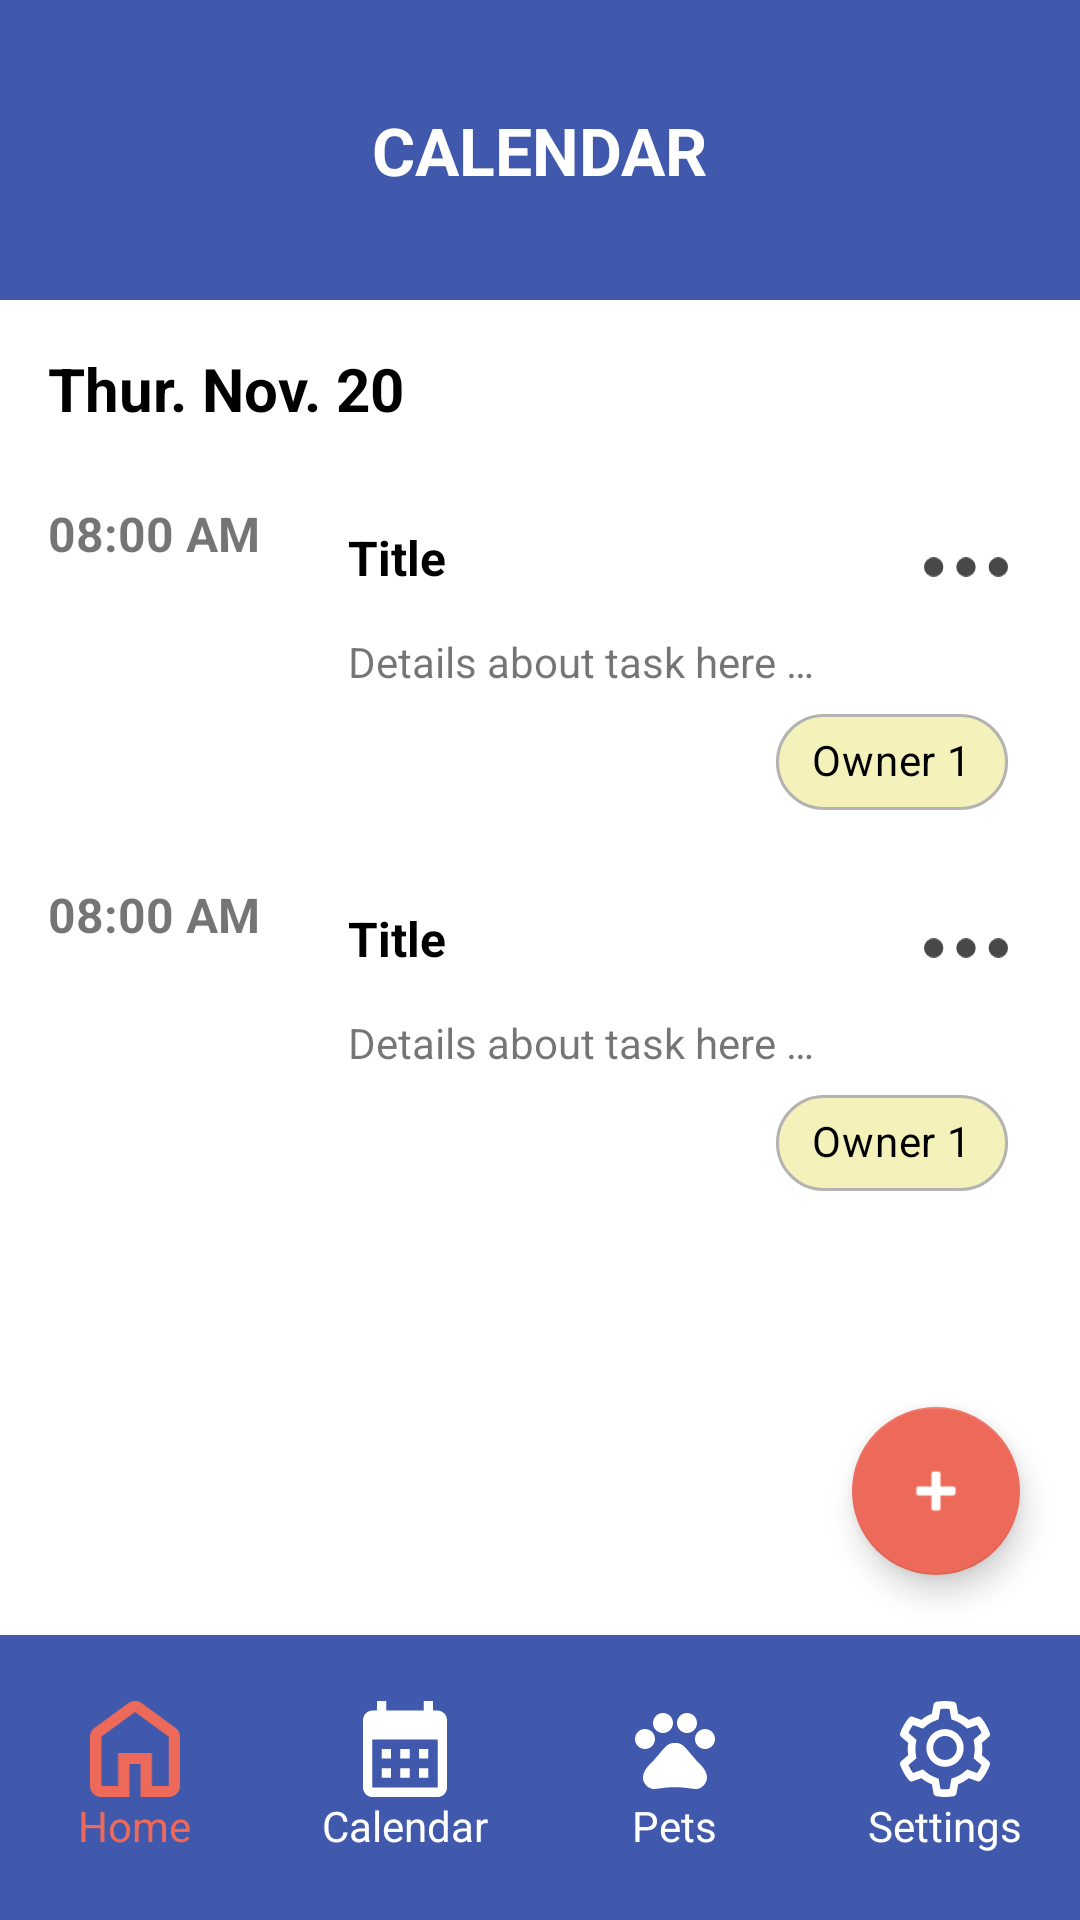

Icons on this 1080x1920 Android screen, each with its box as (x1, y1, x2, y2):
add: (852, 1407, 1020, 1575)
more: (924, 557, 1008, 577), (924, 938, 1008, 958)
